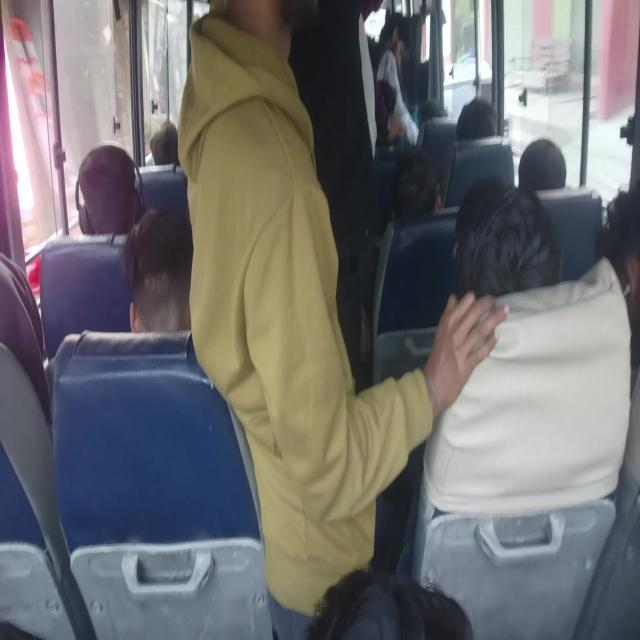person: (176, 0, 510, 638), (288, 0, 381, 384), (452, 175, 562, 299), (304, 567, 474, 638), (122, 205, 193, 333), (74, 142, 144, 236), (596, 182, 640, 324), (374, 12, 419, 148), (391, 148, 442, 220), (518, 137, 566, 191), (456, 96, 495, 140), (147, 120, 179, 166)
